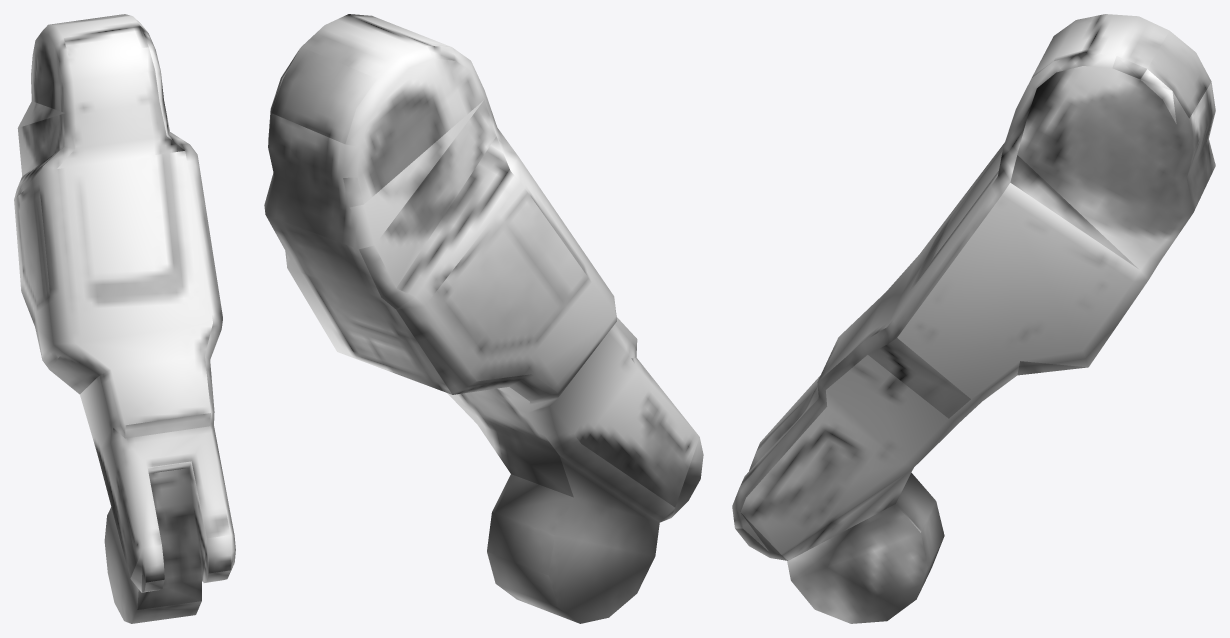
Rendered from fr_shin.glb.
3 renders of one model, left to right at view 1: azimuth 30°, elevation 25°; view 2: azimuth 150°, elevation 25°; view 3: azimuth 270°, elevation 25°, orthographic. The views are drawn at different scales.
Parts seen in each view (by area): view 1: fr_shin; view 2: fr_shin; view 3: fr_shin.
Boxes of the visible parts, <box> form: fr_shin: <box>14,14,235,623</box>; fr_shin: <box>264,14,703,623</box>; fr_shin: <box>732,14,1215,623</box>.
Size of the model in its own units: 0.4417 by 1.23 by 0.8937.
3 materials, 3 textured.
